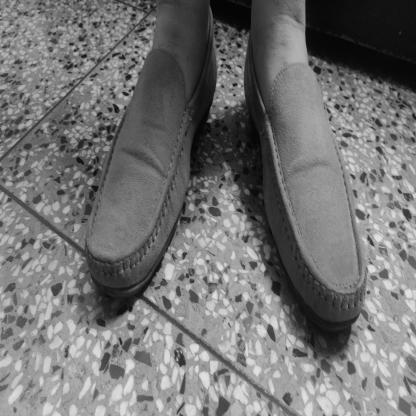ankle: (257, 48, 263, 59), (206, 30, 209, 35)
heel: (214, 71, 217, 76), (246, 88, 248, 92)
left_foot: (245, 22, 368, 332)
pinky: (358, 255, 361, 267), (96, 214, 100, 221)
right_foot: (88, 20, 218, 297)
toe: (314, 253, 319, 263), (130, 246, 133, 254)
